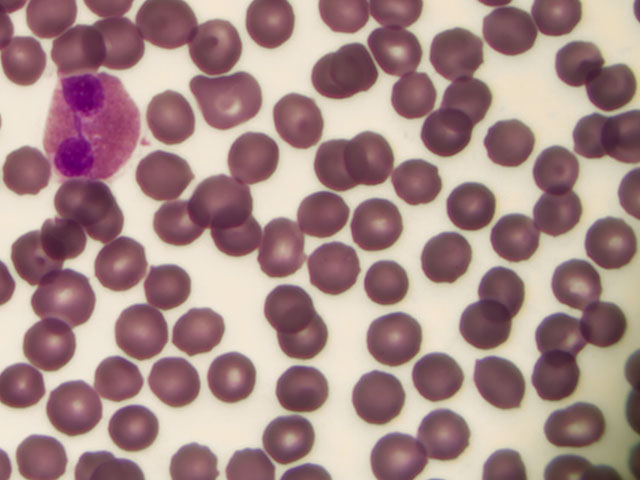Platelets: (141, 137, 152, 149)
RBC: (5, 35, 63, 86), (189, 21, 247, 71), (200, 75, 258, 125), (140, 91, 198, 141), (136, 148, 194, 198), (147, 191, 205, 241), (196, 177, 254, 227), (228, 128, 286, 178), (200, 206, 258, 256), (249, 220, 307, 270), (294, 191, 352, 241), (302, 135, 360, 185), (331, 126, 389, 176), (268, 93, 326, 143), (298, 51, 356, 101), (319, 43, 377, 93), (368, 24, 426, 74), (380, 74, 438, 124), (420, 113, 478, 163), (432, 78, 490, 128), (430, 26, 488, 76), (471, 11, 529, 61), (547, 38, 605, 88), (581, 60, 639, 110), (557, 113, 615, 163), (558, 112, 616, 162), (532, 142, 590, 192), (488, 121, 546, 171), (524, 183, 582, 233), (486, 218, 544, 268), (450, 189, 508, 239), (416, 246, 474, 296), (366, 259, 424, 309), (260, 282, 318, 332), (273, 319, 331, 369), (304, 243, 362, 293), (173, 306, 231, 356), (115, 309, 173, 359), (131, 259, 189, 309), (97, 242, 155, 292), (44, 269, 102, 319), (31, 211, 89, 261), (56, 174, 114, 224), (19, 313, 77, 363), (3, 359, 61, 409), (47, 382, 105, 432), (86, 356, 144, 406), (105, 397, 163, 447), (135, 360, 193, 410), (208, 354, 266, 404), (271, 367, 329, 417), (258, 418, 316, 468), (347, 371, 405, 421), (367, 317, 425, 367), (408, 347, 466, 397), (413, 407, 471, 457), (367, 430, 425, 480), (471, 358, 529, 408), (459, 300, 517, 350), (473, 265, 531, 315), (551, 258, 609, 308), (578, 298, 636, 348), (528, 312, 586, 362), (537, 399, 595, 449), (523, 350, 581, 400), (171, 430, 229, 480), (47, 24, 105, 74), (90, 20, 148, 70), (1, 237, 58, 287), (1, 147, 58, 197), (129, 1, 187, 50)
WBC: (37, 73, 145, 182)
